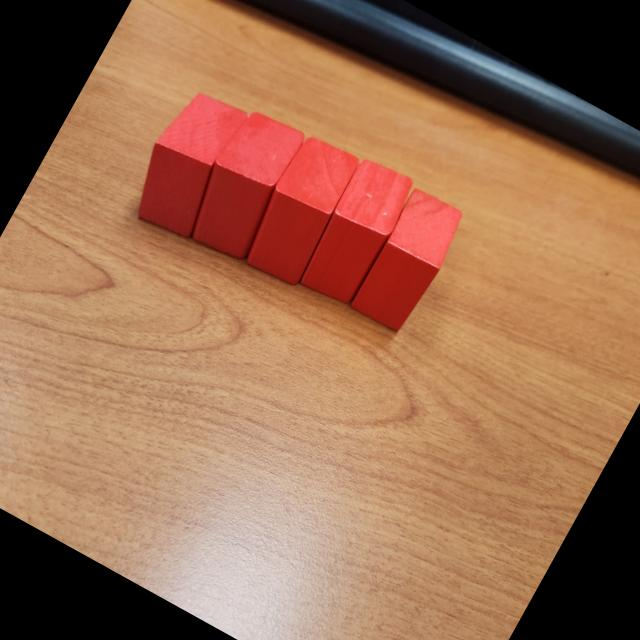red: (176, 101, 314, 267), (118, 80, 256, 243), (234, 130, 366, 294), (292, 152, 420, 312), (346, 184, 470, 338)
